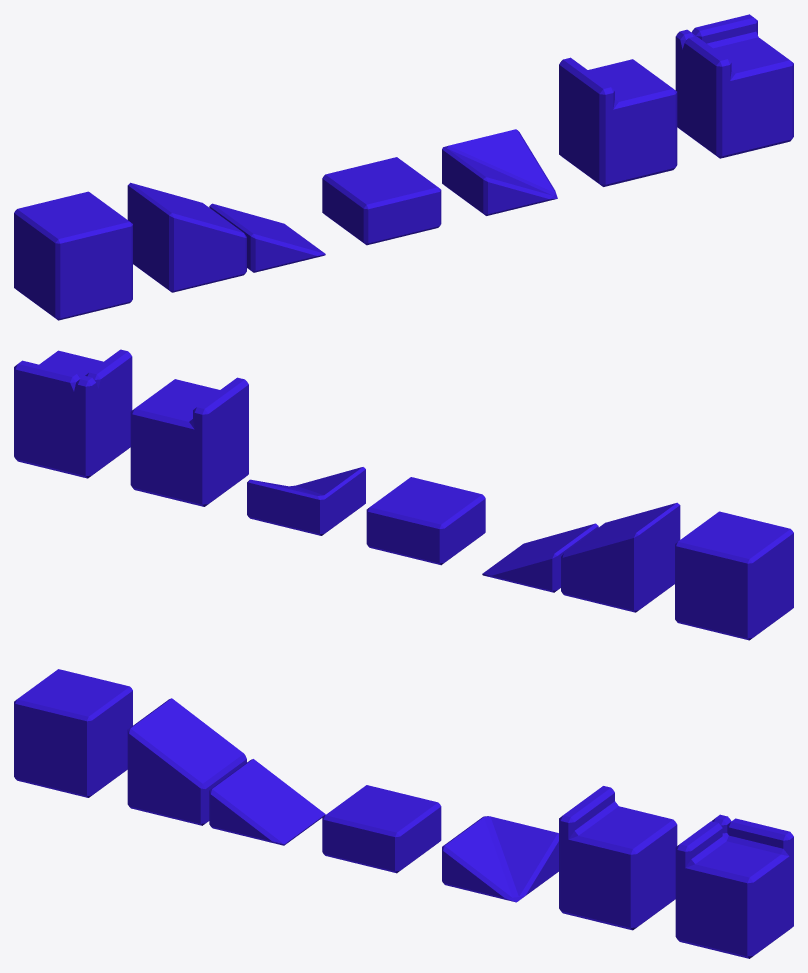
File: Word_Block_1.glb
The picture shows the model from 3 angles, top to bottom: view 1: azimuth 30°, elevation 25°; view 2: azimuth 150°, elevation 25°; view 3: azimuth 330°, elevation 25°; orthographic projection.
Visible parts, largest first — view 1: Duvarlı_Köşe_Block, BlockShort, Block, Rampa_Ustu, Yarım_Block, Rampa_Köşe, Rmpa_Altı; view 2: Duvarlı_Köşe_Block, BlockShort, Block, Rampa_Ustu, Yarım_Block, Rampa_Köşe, Rmpa_Altı; view 3: Duvarlı_Köşe_Block, BlockShort, Block, Rampa_Ustu, Yarım_Block, Rampa_Köşe, Rmpa_Altı.
Part boxes in pixels (box(x1,y1,x2,y2)): Duvarlı_Köşe_Block: box(675, 14, 793, 158); BlockShort: box(559, 57, 677, 186); Block: box(14, 191, 132, 320); Rampa_Ustu: box(127, 182, 246, 292); Yarım_Block: box(322, 157, 441, 245); Rampa_Köşe: box(442, 129, 557, 215); Rmpa_Altı: box(209, 203, 325, 272); Duvarlı_Köşe_Block: box(14, 349, 132, 478); BlockShort: box(130, 377, 248, 506); Block: box(675, 511, 793, 640); Rampa_Ustu: box(561, 502, 680, 612); Yarım_Block: box(366, 477, 485, 565); Rampa_Köşe: box(247, 467, 365, 535); Rmpa_Altı: box(482, 523, 598, 592); Duvarlı_Köşe_Block: box(675, 814, 793, 958); BlockShort: box(559, 786, 677, 930); Block: box(14, 669, 132, 797); Rampa_Ustu: box(127, 698, 246, 825); Yarım_Block: box(322, 785, 441, 873); Rampa_Köşe: box(442, 816, 558, 902); Rmpa_Altı: box(209, 759, 325, 845).
Size of what is drawn, in the model's own units: 19 by 2.41 by 2.
